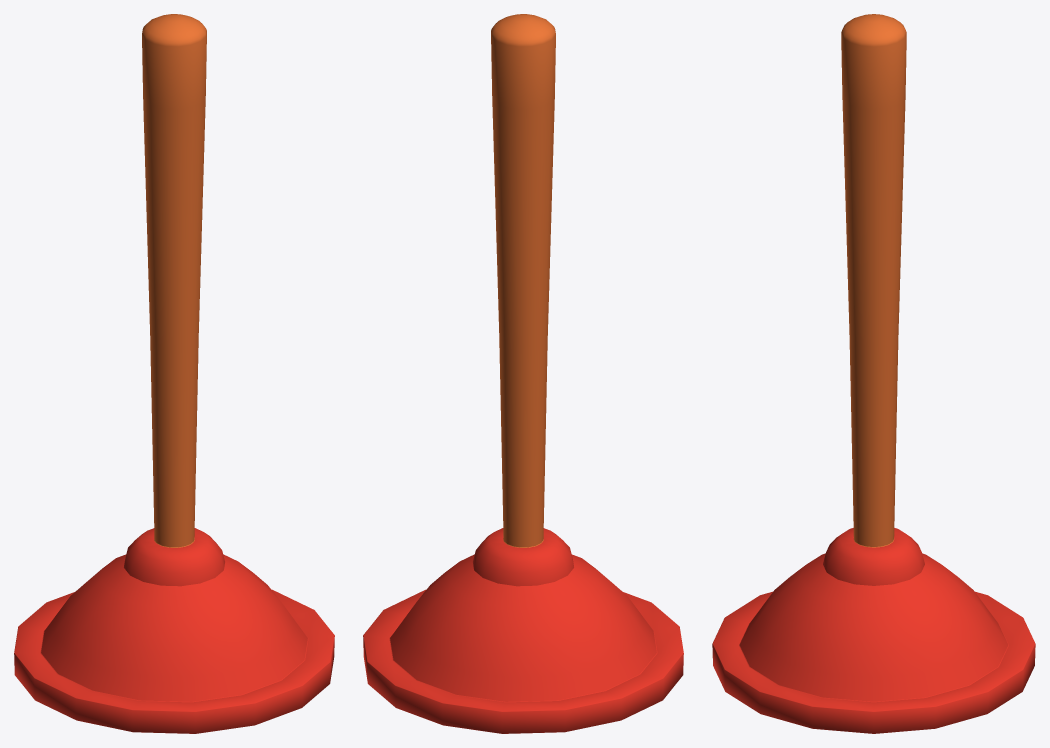
Rendered from desentupidor .fbx.
3 views of the same model, side by side, from view 1: azimuth 30°, elevation 25°; view 2: azimuth 150°, elevation 25°; view 3: azimuth 270°, elevation 25° (orthographic).
Visible parts, largest first — view 1: Cylinder; view 2: Cylinder; view 3: Cylinder.
Part boxes in pixels (<box>): Cylinder: <box>14,14,334,733</box>; Cylinder: <box>363,14,683,733</box>; Cylinder: <box>712,14,1035,733</box>.
Bounding box in the file's own units: 7891 × 17436 × 7891.
